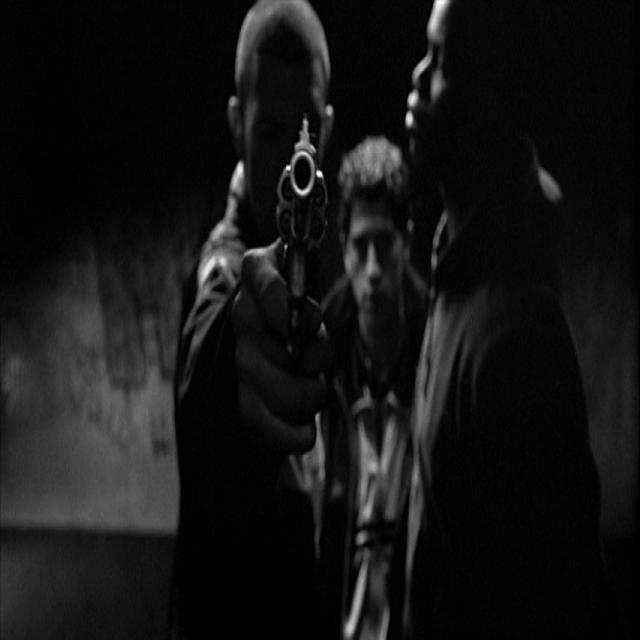gun-knife-thesis - v11 Yolov5 augmented: (250, 100, 340, 459)
